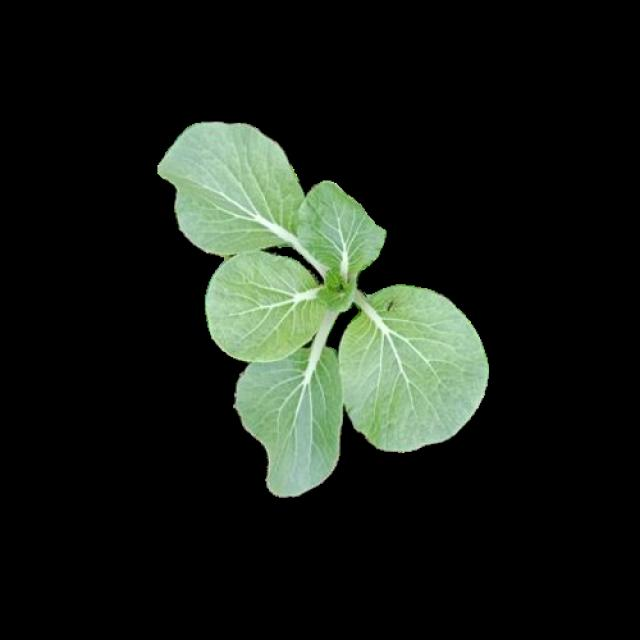healthy: (159, 120, 486, 494)
not-mature: (156, 118, 484, 492)
